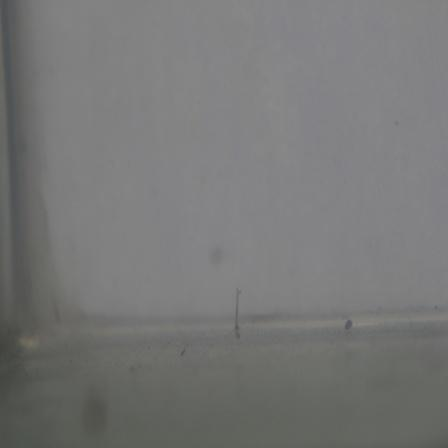Jentik-Nyamuk: (227, 286, 247, 341)
